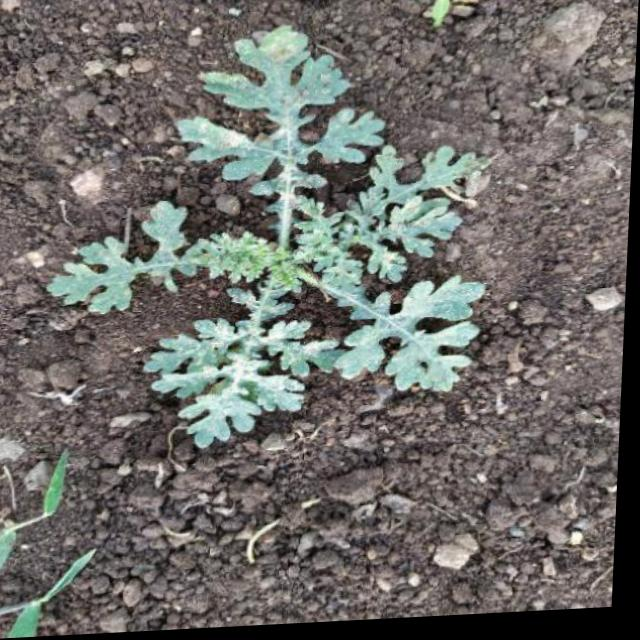weed: (44, 20, 520, 474)
